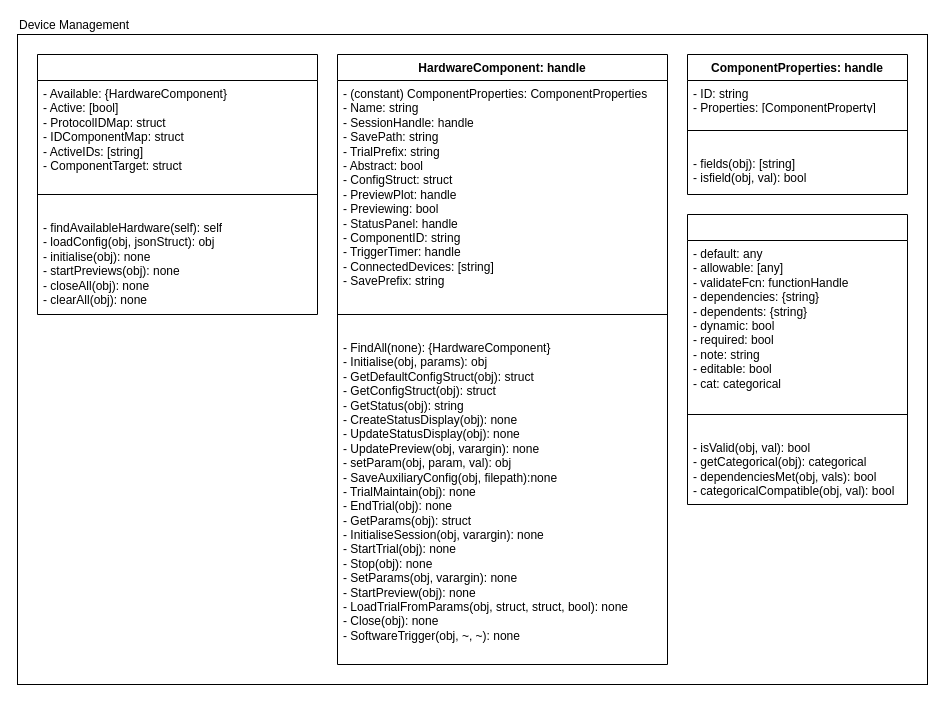
Image size: 945x702. Some labels were removed from this diagram. Each missing label, with the box of its shape:
ComponentManager: handle: (36, 54, 318, 314)
ComponentProperty: (686, 214, 908, 504)
